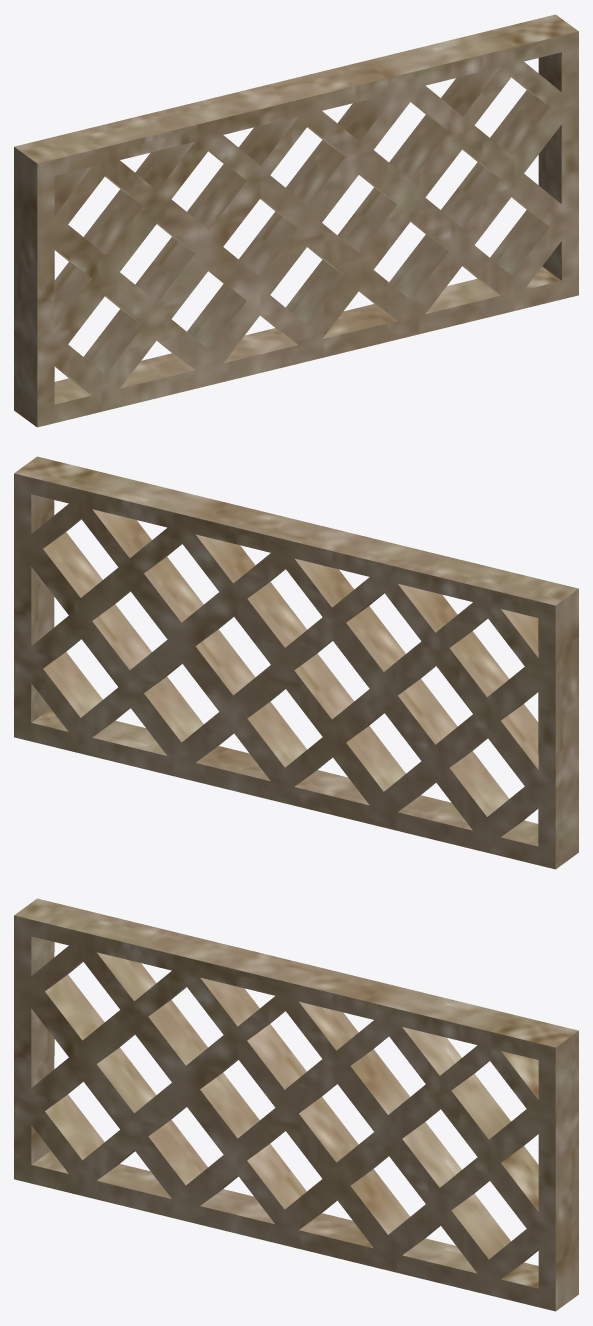
Rendered from pasted__stone_column_451.fbx.
3 renders of one model, top to bottom at view 1: azimuth 30°, elevation 25°; view 2: azimuth 150°, elevation 25°; view 3: azimuth 330°, elevation 25°, orthographic.
Visible parts, largest first — view 1: pasted__stone_column_451; view 2: pasted__stone_column_451; view 3: pasted__stone_column_451.
Part boxes in pixels (x1,y1,x2,y2): pasted__stone_column_451: [14, 14, 578, 427]; pasted__stone_column_451: [14, 456, 578, 869]; pasted__stone_column_451: [14, 898, 578, 1311].
Bounding box in the file's own units: 40.4 × 3 × 18.8.
